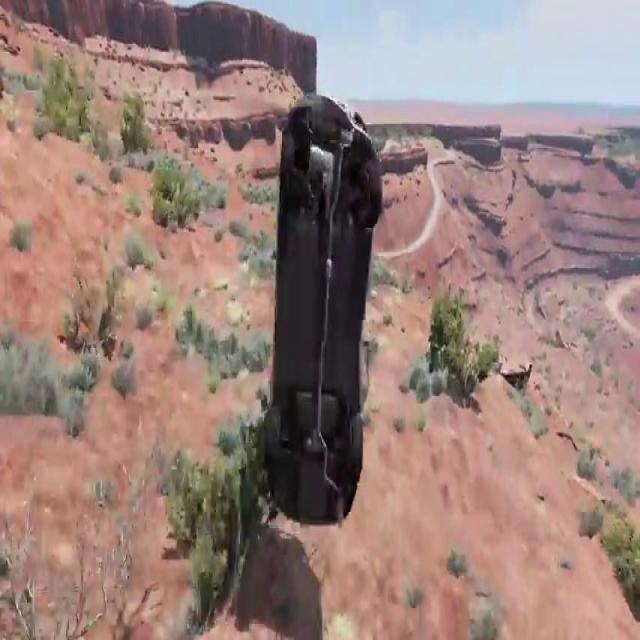severe: (245, 84, 384, 528)
